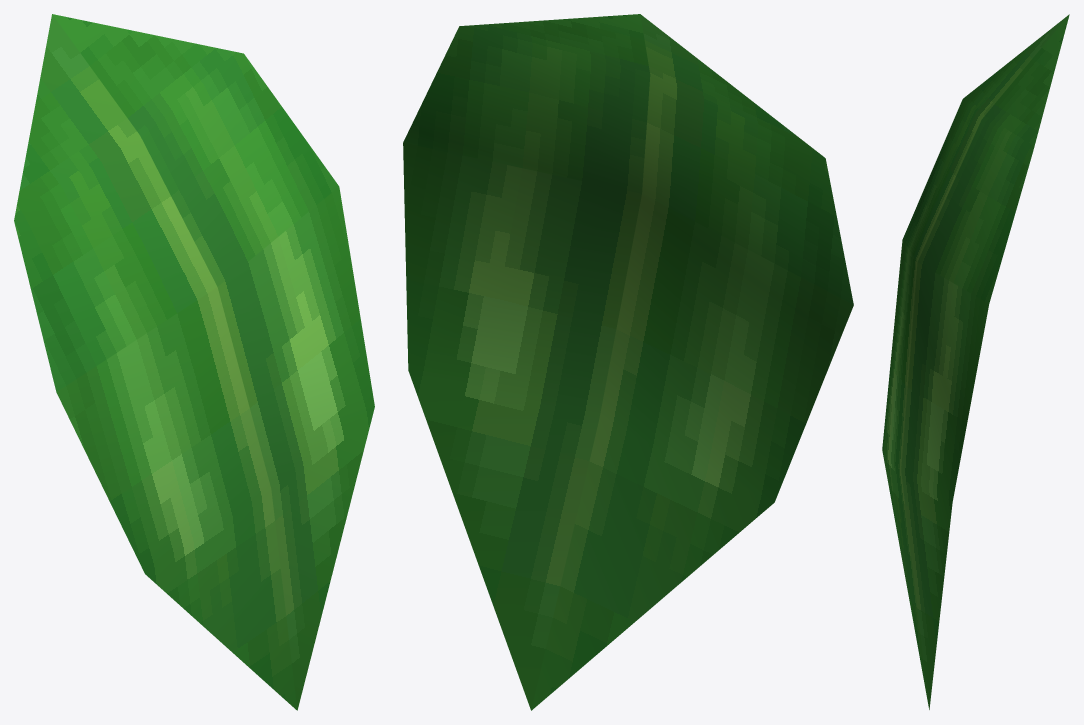
Rendered from EKH_BARRELROOM_PS_JA1_OBJECT122.fbx.
The picture shows the model from 3 angles, left to right: view 1: azimuth 30°, elevation 25°; view 2: azimuth 150°, elevation 25°; view 3: azimuth 270°, elevation 25°; orthographic projection. The views are drawn at different scales.
Visible parts, largest first — view 1: EKH_BARRELROOM_PS_JA1_OBJECT122; view 2: EKH_BARRELROOM_PS_JA1_OBJECT122; view 3: EKH_BARRELROOM_PS_JA1_OBJECT122.
Part boxes in pixels (bbox=[...]): EKH_BARRELROOM_PS_JA1_OBJECT122: bbox=[14, 14, 374, 710]; EKH_BARRELROOM_PS_JA1_OBJECT122: bbox=[403, 14, 853, 710]; EKH_BARRELROOM_PS_JA1_OBJECT122: bbox=[882, 14, 1069, 709].
Bounding box in the file's own units: 1685 × 3089 × 844.
1 material, 1 textured.
